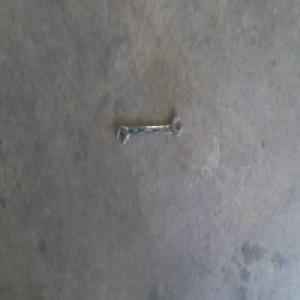Wrench: (116, 113, 183, 140)
